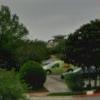Tree: (59, 15, 100, 90)
